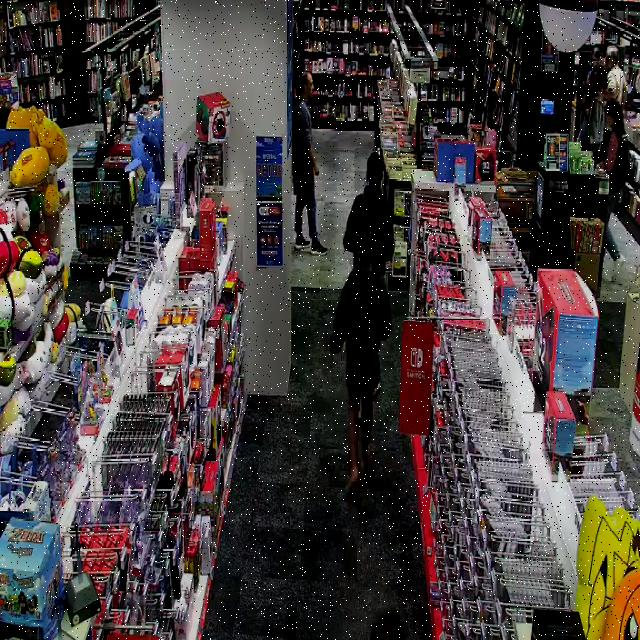person: (329, 227, 391, 502), (343, 152, 393, 278), (294, 71, 325, 254), (598, 98, 628, 268)
